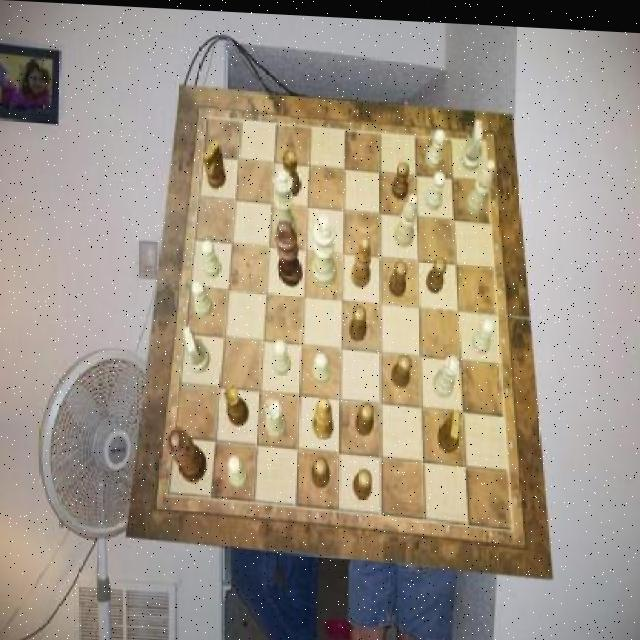bishop: (351, 233, 371, 285), (312, 392, 332, 436)
black-bishop: (275, 217, 303, 284)
black-king: (202, 138, 224, 188), (438, 406, 462, 449)
black-knight: (388, 255, 408, 293), (426, 253, 446, 290), (354, 399, 374, 434), (391, 350, 411, 385), (392, 158, 409, 197), (352, 465, 372, 497), (349, 300, 366, 337), (312, 454, 329, 486)
black-pawn: (166, 425, 206, 483)
black-queen: (223, 383, 248, 424), (282, 145, 302, 194)
black-rook: (466, 155, 496, 212), (394, 188, 418, 244)
white-bishop: (311, 209, 335, 285)
white-king: (182, 324, 210, 371), (461, 114, 482, 167)
white-knight: (472, 312, 496, 350), (191, 277, 214, 315), (424, 166, 444, 207), (424, 123, 444, 164), (200, 237, 220, 276), (228, 454, 248, 487), (272, 336, 289, 372), (312, 349, 329, 383)
white-pawn: (271, 166, 295, 240)
white-queen: (432, 350, 458, 393), (266, 395, 286, 436)
